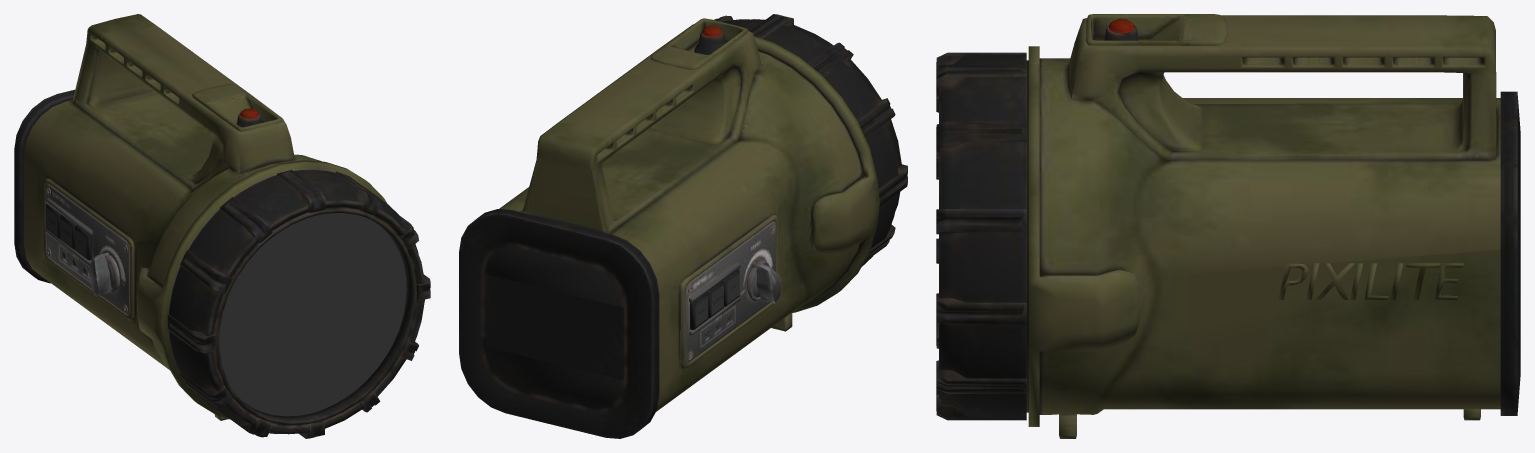
File: followspot.glb
The picture shows the model from 3 angles, left to right: view 1: azimuth 30°, elevation 25°; view 2: azimuth 150°, elevation 25°; view 3: azimuth 270°, elevation 25°; orthographic projection. The views are drawn at different scales.
Visible parts, largest first — view 1: portable_searchlight; view 2: portable_searchlight; view 3: portable_searchlight.
Part boxes in pixels (box(x1,y1,x2,y2)): portable_searchlight: box(14, 14, 430, 438); portable_searchlight: box(459, 14, 907, 438); portable_searchlight: box(936, 14, 1520, 438).
Bounding box in the file's own units: 0.1653 × 0.1854 × 0.2534.
Materials: 2 (2 with a texture image).
